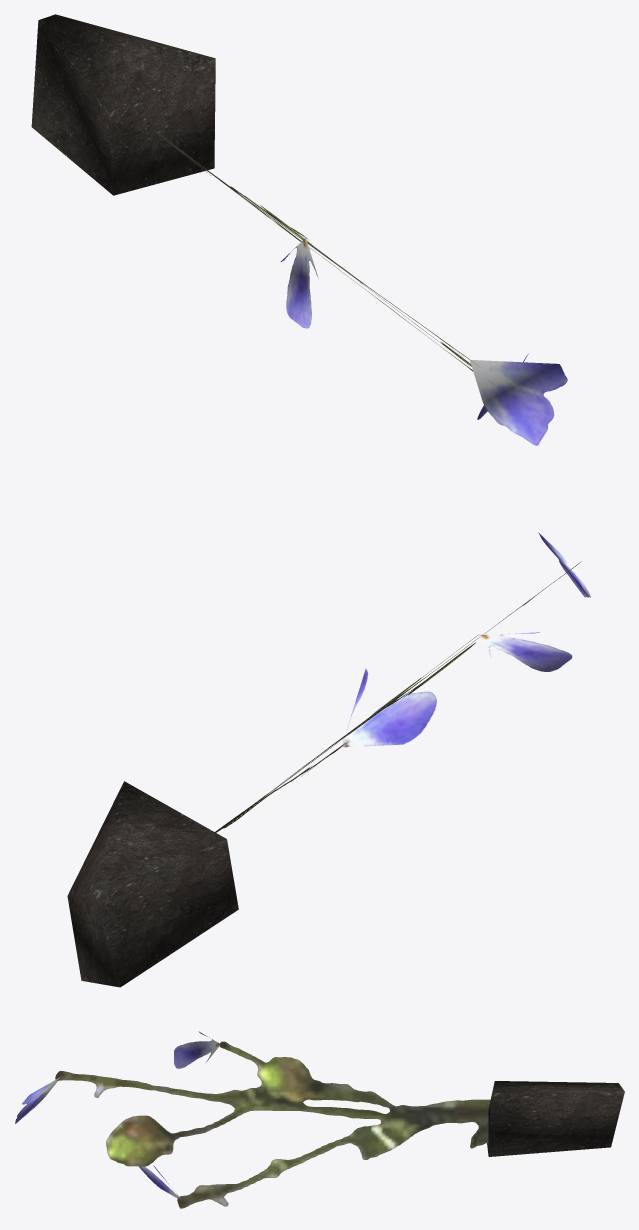
Rendered from com_flower_blue3_LOD2.obj.
3 renders of one model, top to bottom at view 1: azimuth 30°, elevation 25°; view 2: azimuth 150°, elevation 25°; view 3: azimuth 270°, elevation 25°, orthographic. The views are drawn at different scales.
Parts seen in each view (by area): view 1: mtl_plastic_bucket_soil, mtl_gardenflowers; view 2: mtl_plastic_bucket_soil, mtl_gardenflowers; view 3: mtl_gardenflowers, mtl_plastic_bucket_soil.
Boxes of the visible parts, box(x1,y1,x2,y2) form: mtl_plastic_bucket_soil: box(31, 14, 215, 195); mtl_gardenflowers: box(148, 126, 567, 445); mtl_plastic_bucket_soil: box(67, 781, 238, 987); mtl_gardenflowers: box(215, 532, 590, 832); mtl_gardenflowers: box(15, 1031, 490, 1208); mtl_plastic_bucket_soil: box(487, 1081, 624, 1156).
Size of the model in its own units: 13.23 by 9.25 by 41.44.
